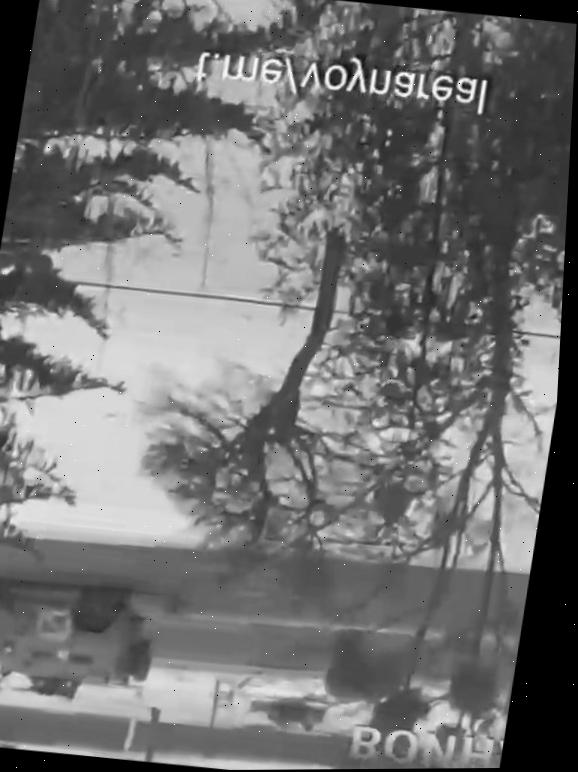armored_car: (0, 573, 166, 710)
